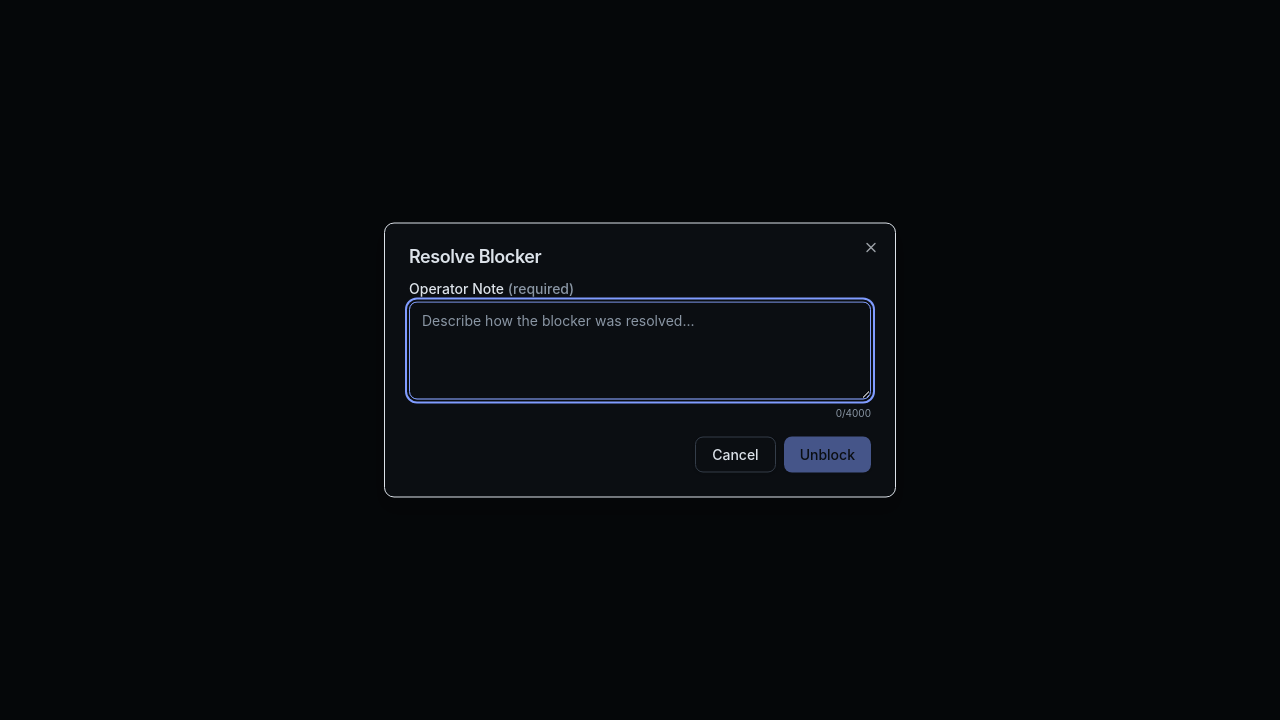
Test: UnblockDialog › shows error on server conflict
The image size is (1280, 720).
In the text box: (640, 350) [409,302,871,400], type "Trying..."
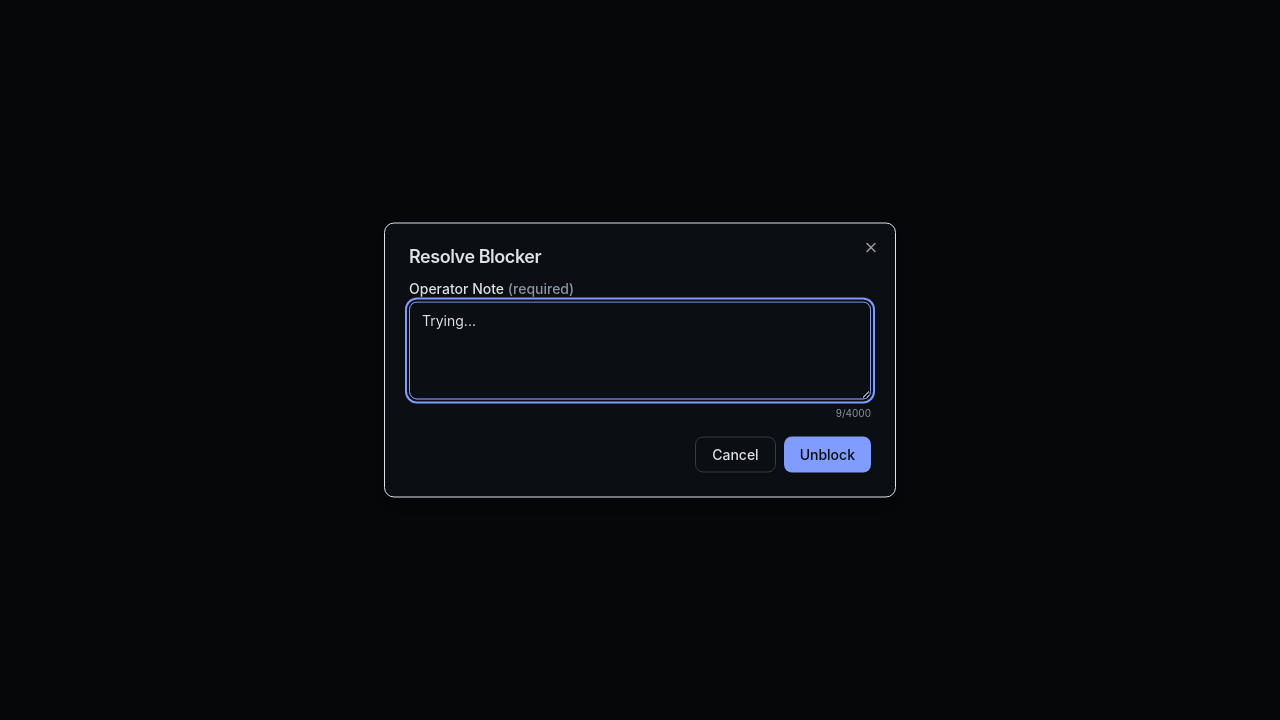
Click the button "Unblock": (827, 454) [784,436,871,472]
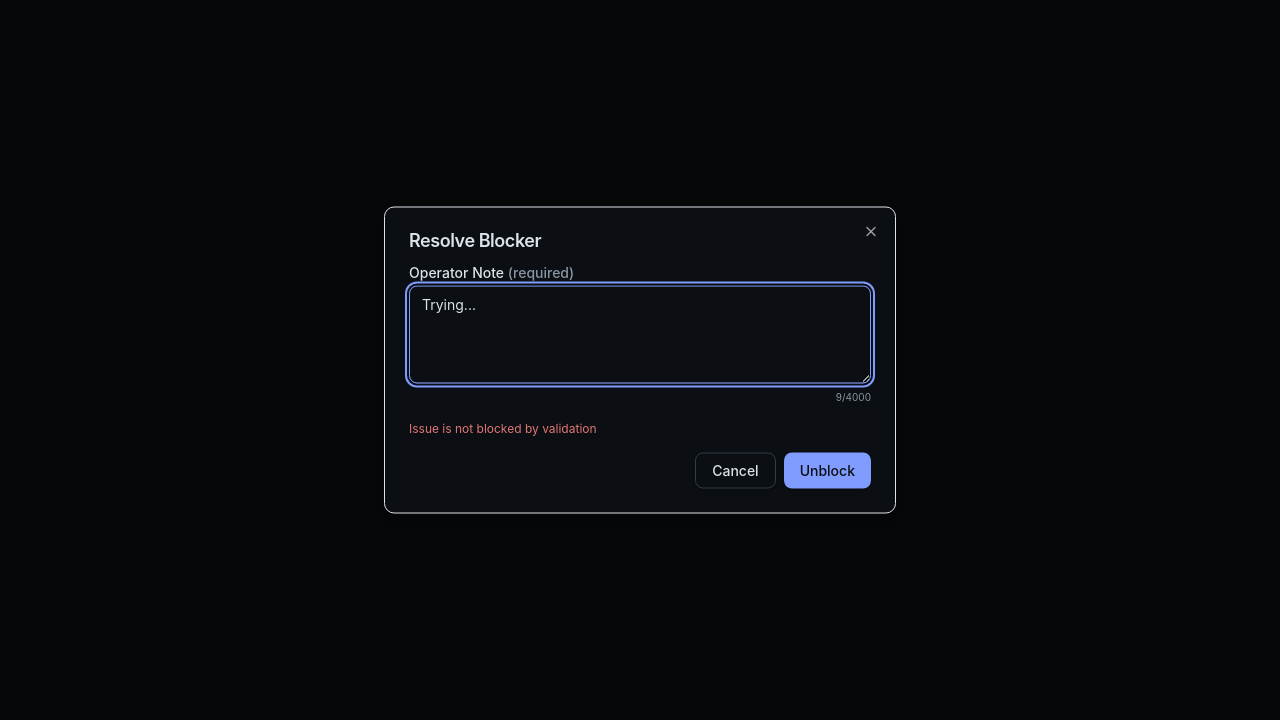
Now the text "Issue is not blocked by validation" is shown, box [409,420,597,436]
